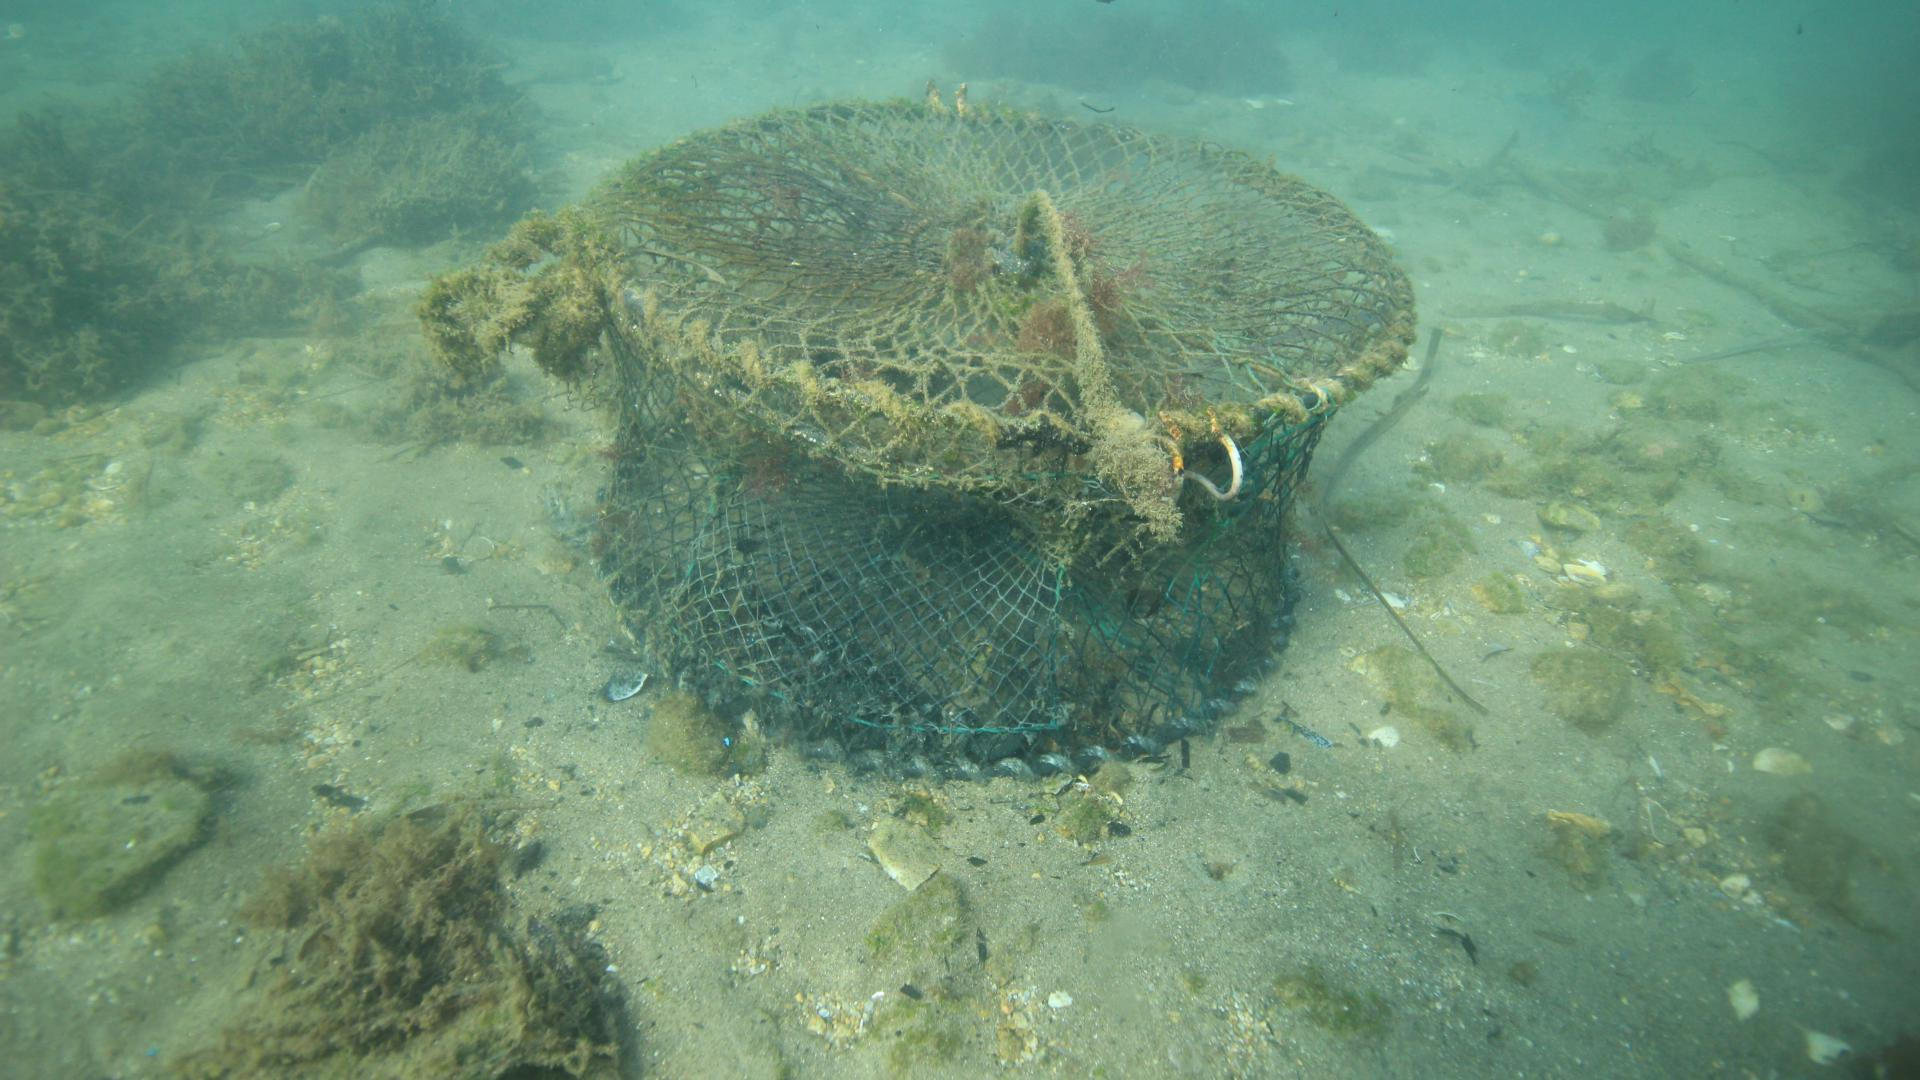circular fish trap: (571, 94, 1418, 785)
